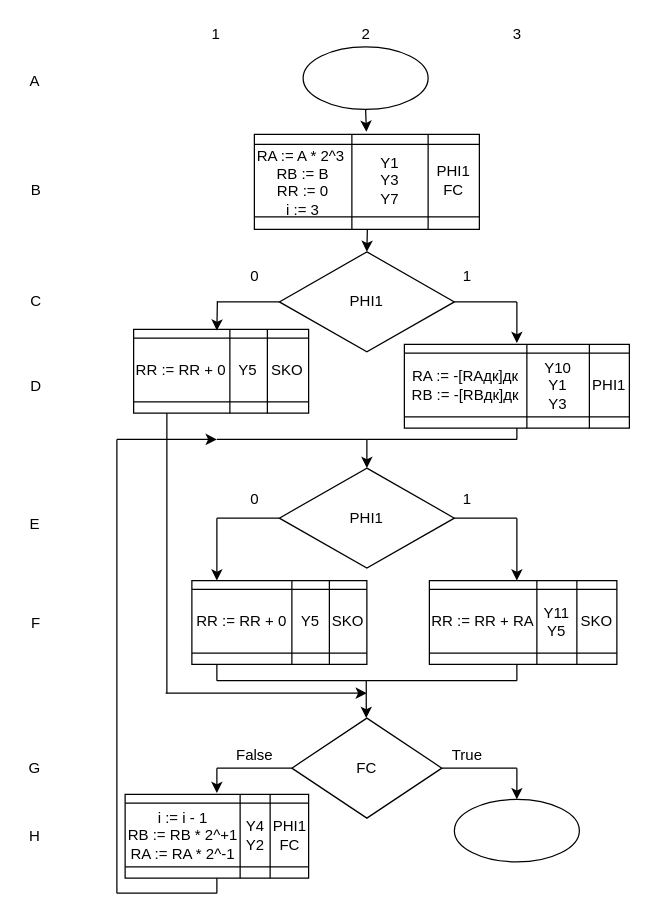
This 651x916 diagram has some shape labels left out. Each missing label, with the box of its shape:
BEGIN: (302, 46, 428, 109)
END: (453, 798, 579, 862)
